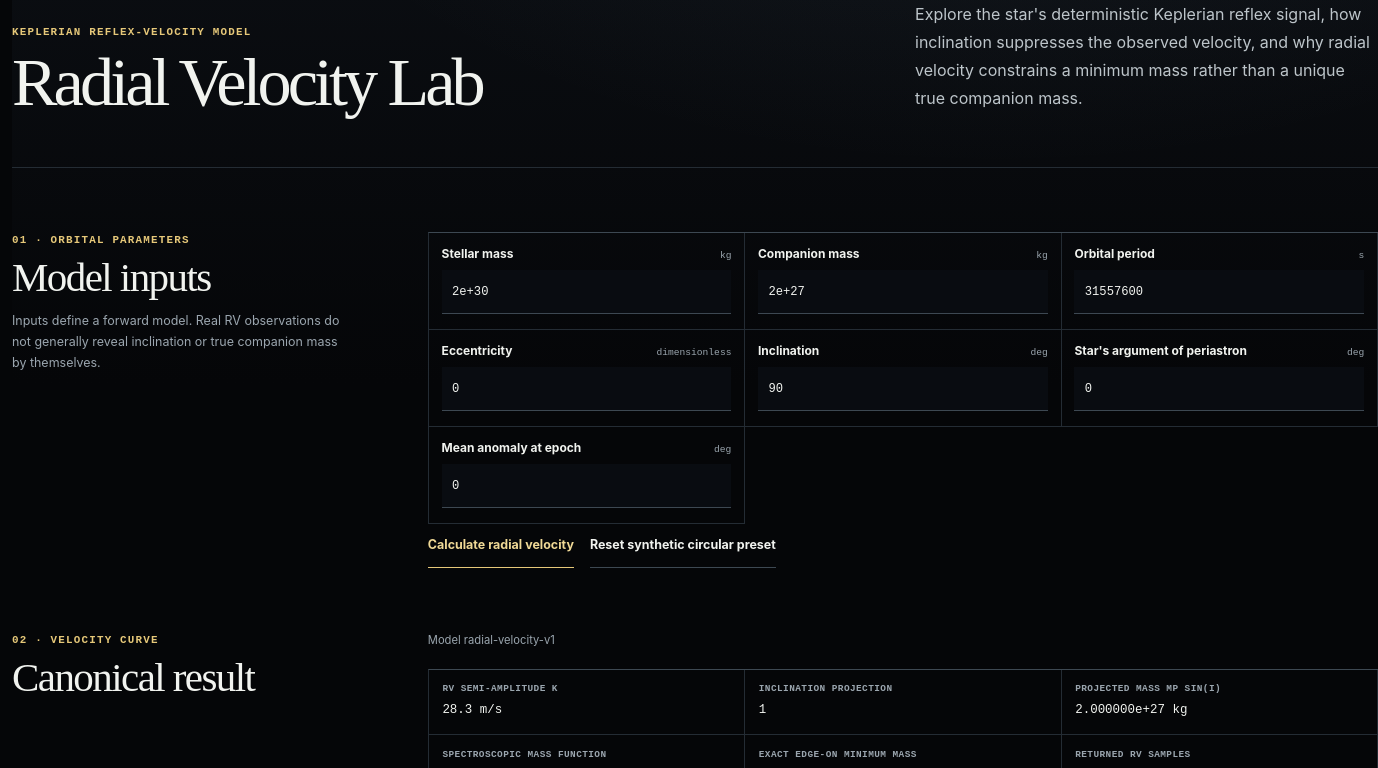
it: RadialVelocityView › retains the last canonical result when the API rejects the state
The image size is (1378, 768).
Replace the text in the number field labelled "Companion mass kg" with "1e29" at (903, 292), box [758,270,1048,314]
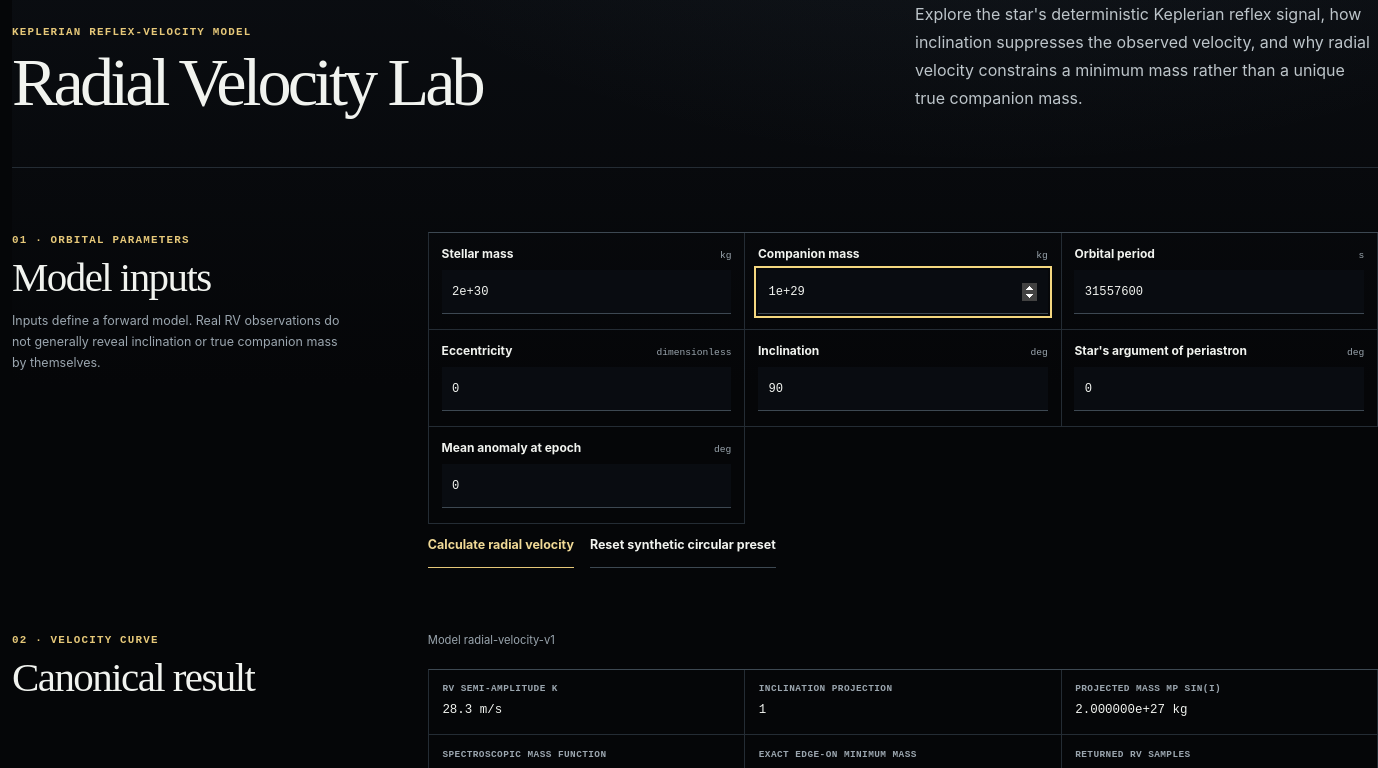
Click the button "Calculate radial velocity".
click(501, 546)  # box [428,524,574,568]
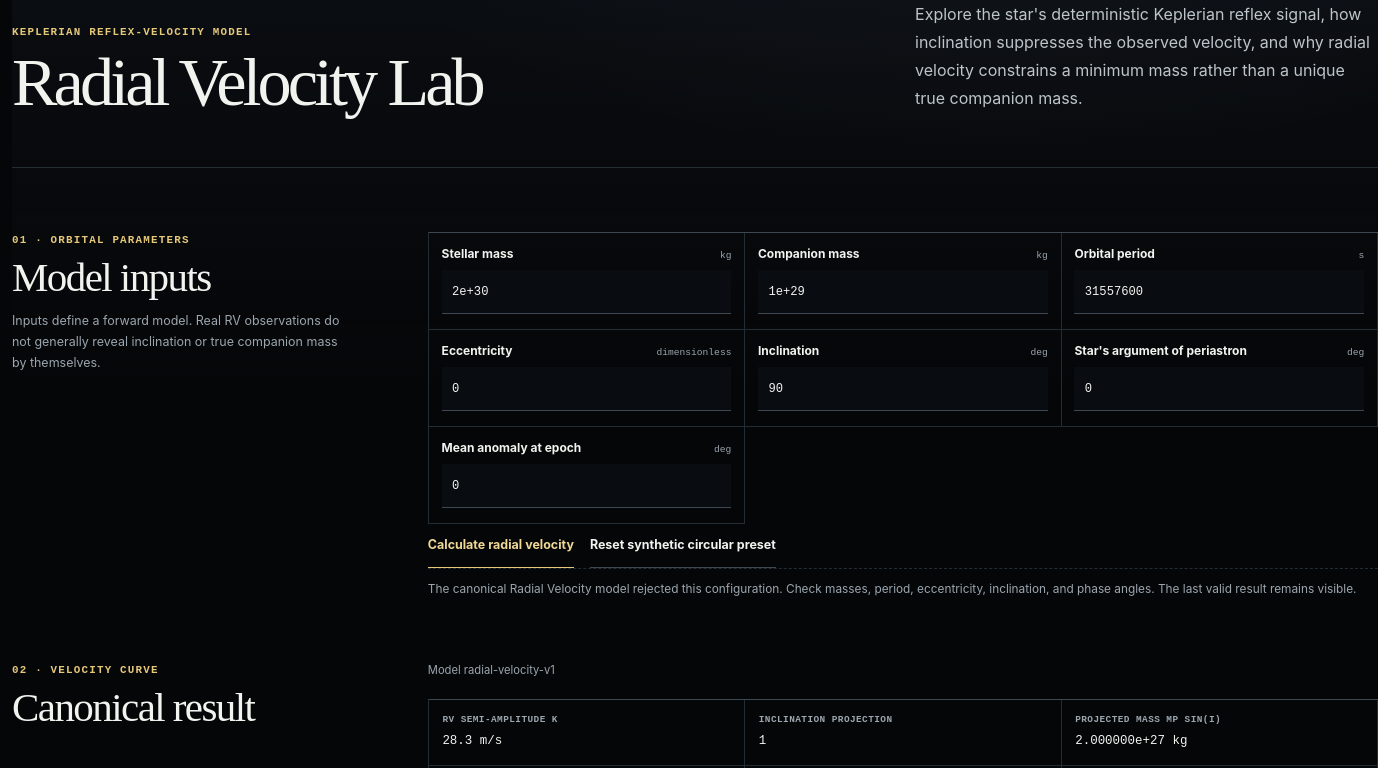
Expected: the text "RV semi-amplitude K" is shown, [442,714,558,725]
Result: the text "canonical Radial Velocity model rejected this configuration" is shown at [428,582,1356,596]
